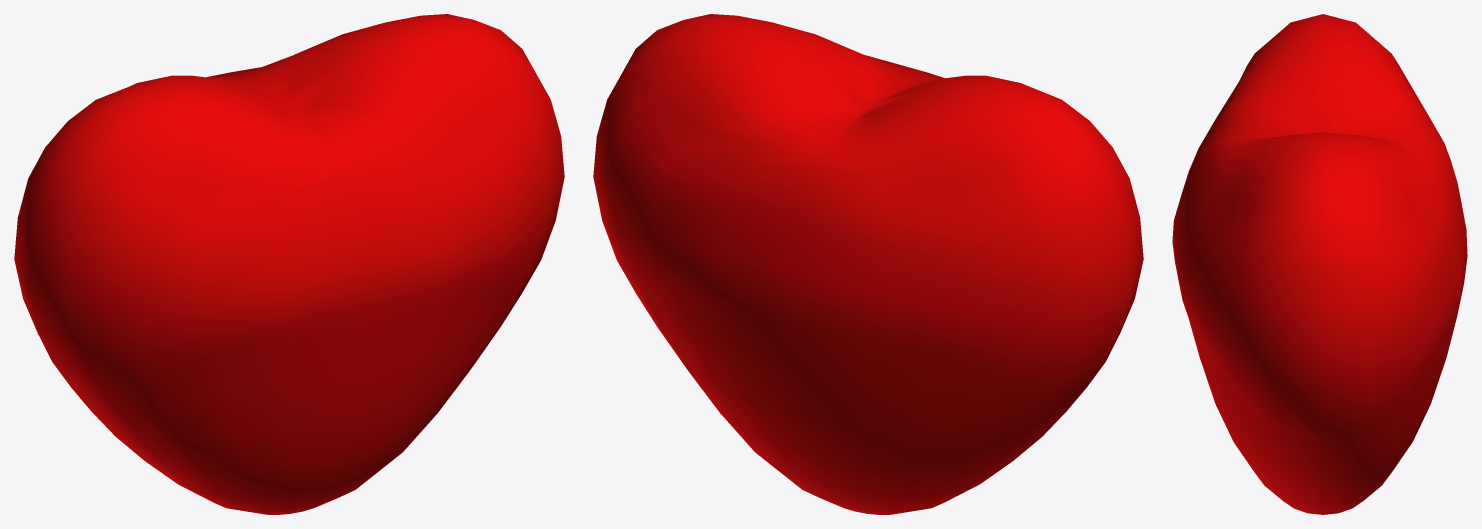
Rendered from Vida.fbx.
3 views of the same model, side by side, from view 1: azimuth 30°, elevation 25°; view 2: azimuth 150°, elevation 25°; view 3: azimuth 270°, elevation 25° (orthographic). The views are drawn at different scales.
Parts seen in each view (by area): view 1: pSphere1; view 2: pSphere1; view 3: pSphere1.
Part boxes in pixels (x1,y1,x2,y2): pSphere1: [14, 14, 564, 514]; pSphere1: [593, 14, 1143, 514]; pSphere1: [1172, 14, 1467, 514].
Size of the model in its own units: 1.93 by 1.59 by 1.03.
